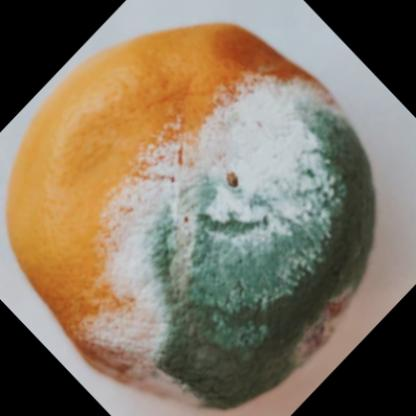rotten: (6, 22, 375, 407)
